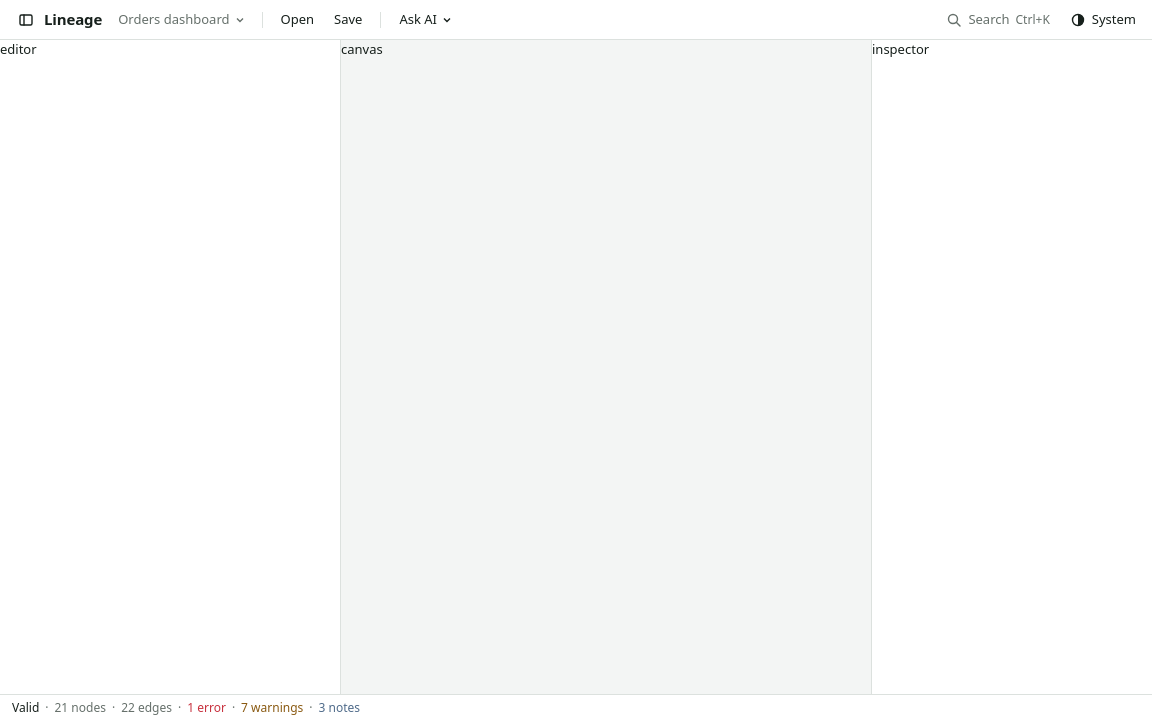
Scenario: Connect › picks a node, then a relation, and writes the edge
The width and height of the screenshot is (1152, 720).
Type keys "c"
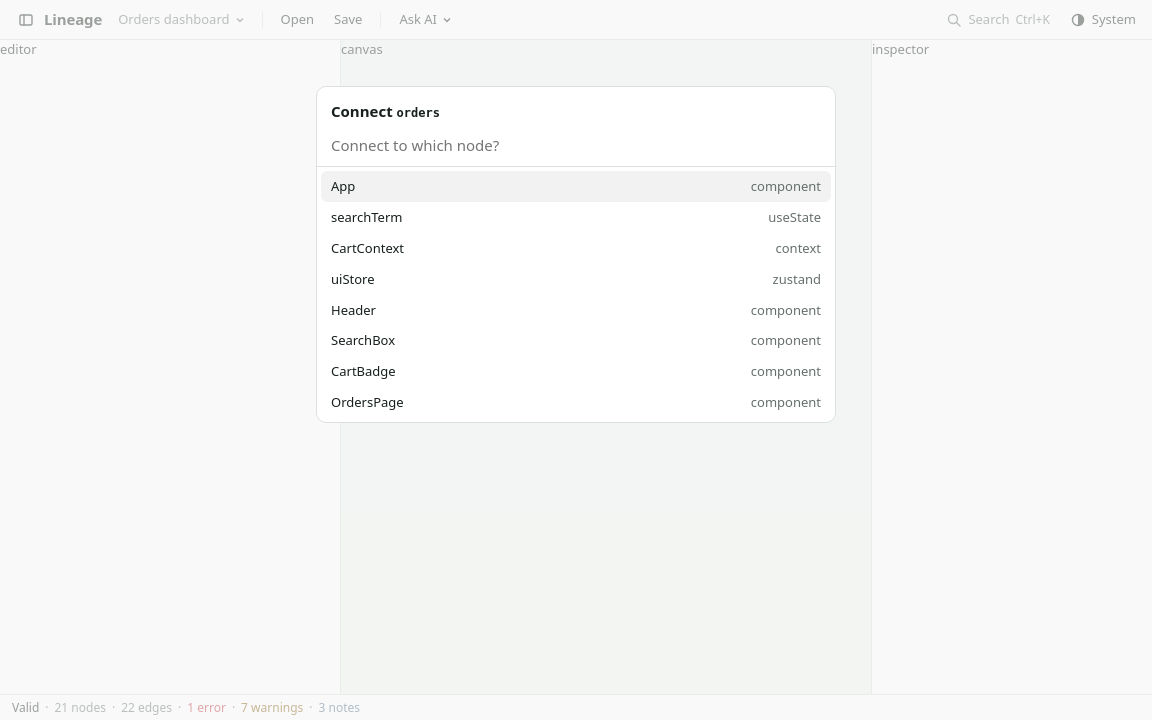
Expected: the heading reads "Connect orders", 331,101 -> 440,121
Type "cartb" into the dropdown. click: (576, 145)
box: 317,123 -> 835,167
Then press Enter
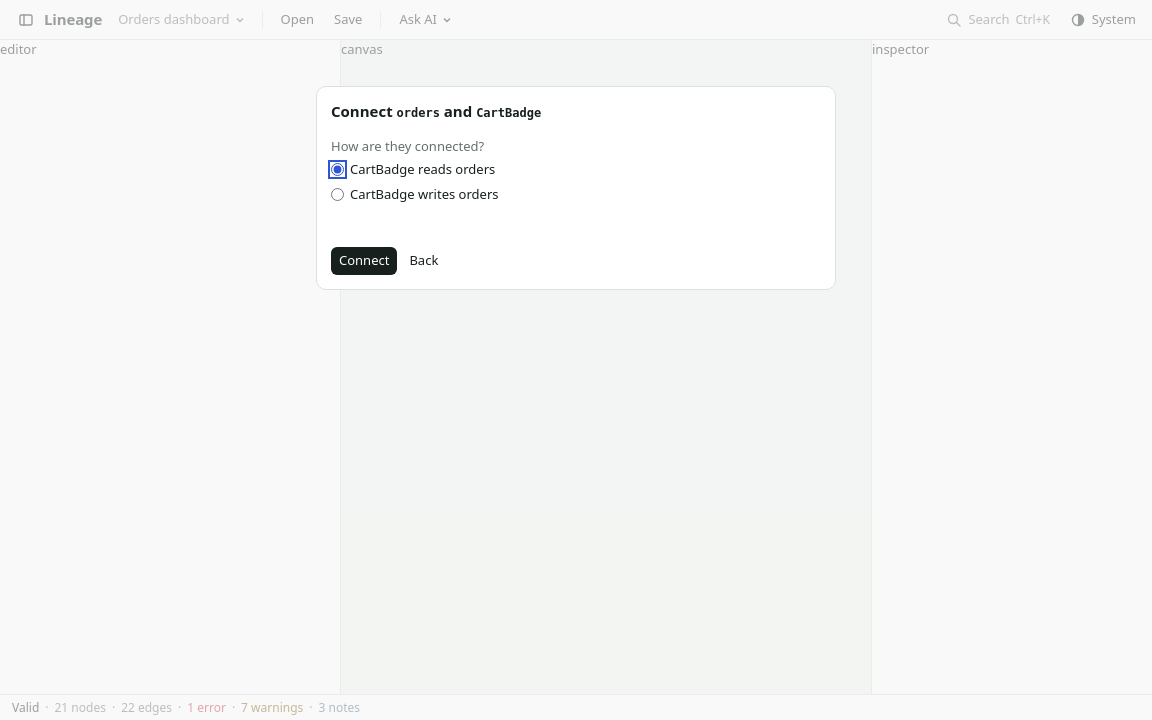
Expected: the heading reads "Connect orders and CartBadge", 331,101 -> 541,121
Expected: the radio button labelled "CartBadge reads orders" is checked, 331,163 -> 344,176
Click the button "Connect". click: (364, 260)
box: 331,246 -> 397,274
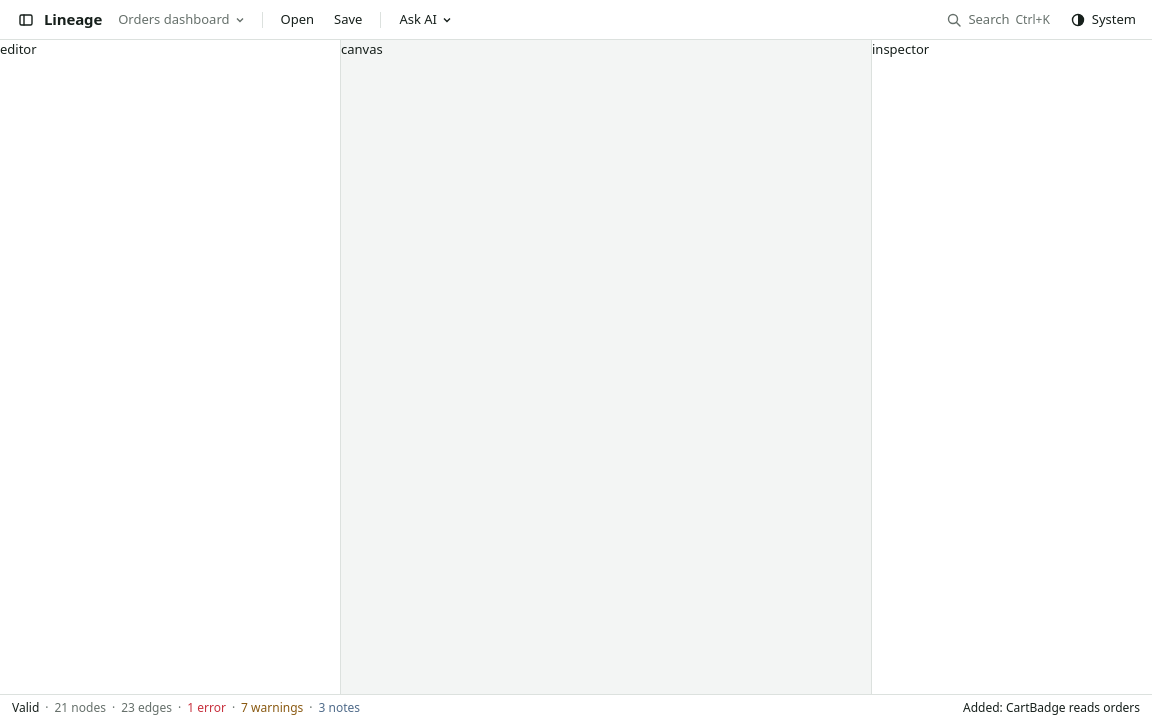
Expected: the text "Added: CartBadge reads orders" is shown, 963,699 -> 1140,716
